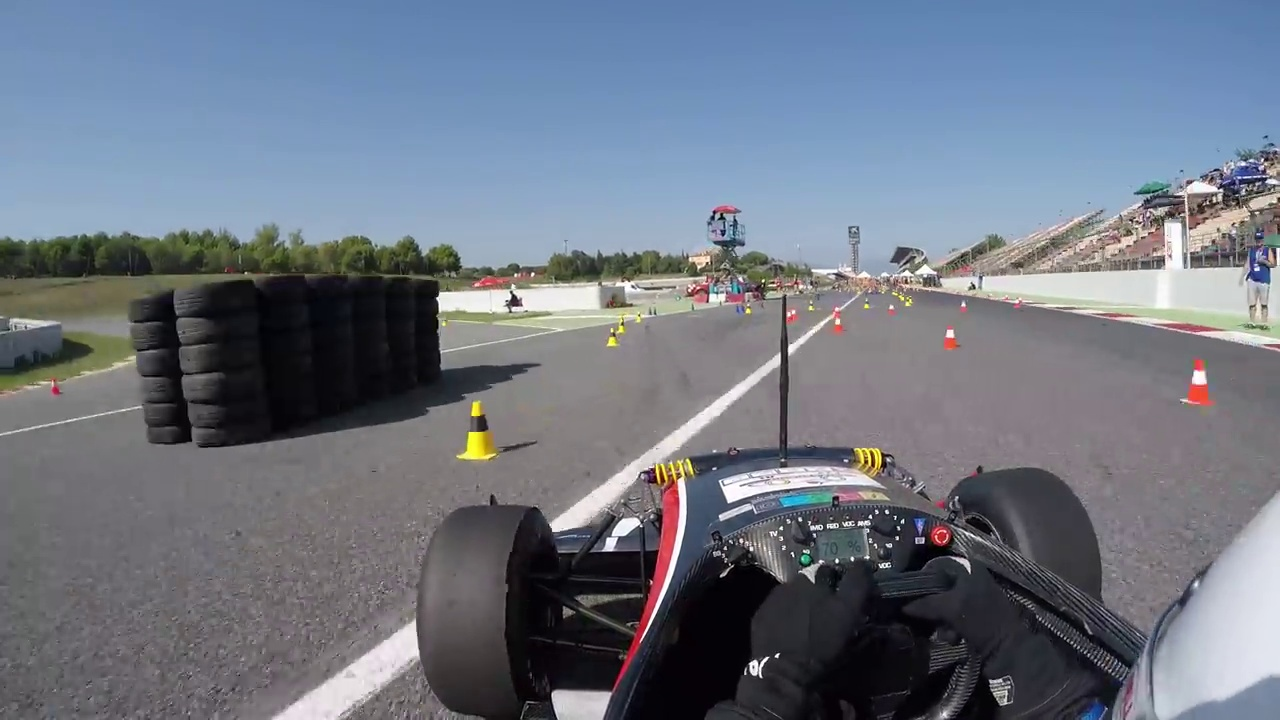Cone: (459, 398, 498, 461), (1184, 358, 1216, 408)
